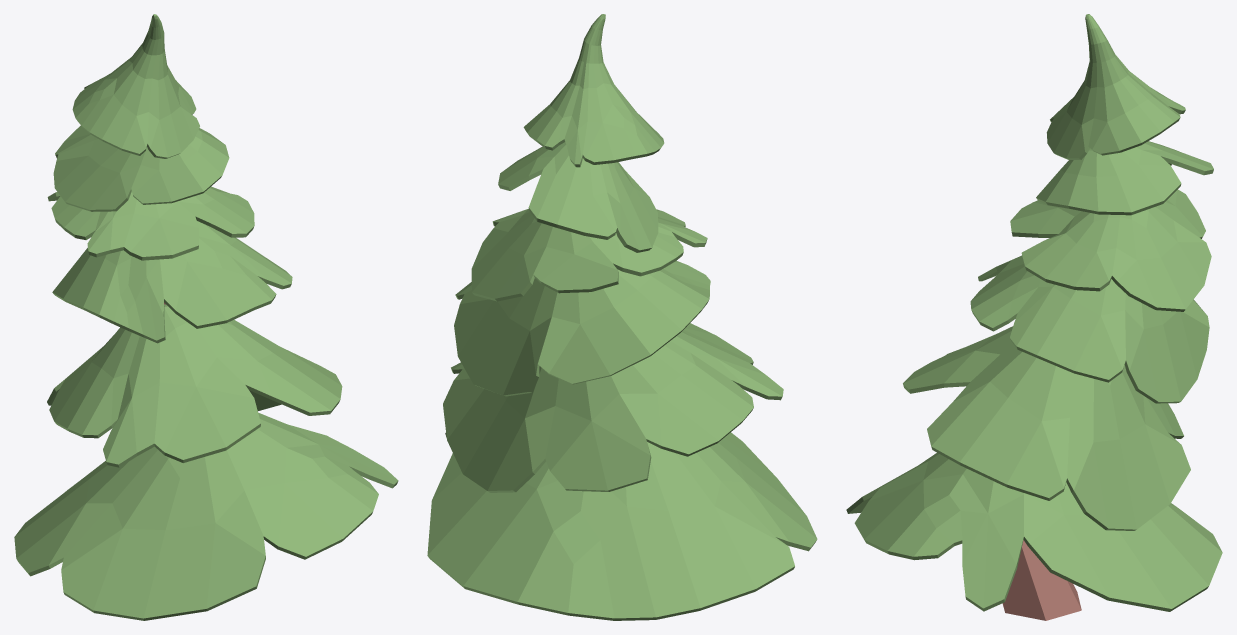
The model's file is pine_3.glb.
3 views of the same model, side by side, from view 1: azimuth 30°, elevation 25°; view 2: azimuth 150°, elevation 25°; view 3: azimuth 270°, elevation 25° (orthographic). The views are drawn at different scales.
Parts seen in each view (by area): view 1: PineTree_3; view 2: PineTree_3; view 3: PineTree_3.
Boxes of the visible parts, x1=… form: PineTree_3: x1=14, y1=14, x2=398, y2=620; PineTree_3: x1=427, y1=14, x2=817, y2=620; PineTree_3: x1=846, y1=14, x2=1222, y2=620.
Bounding box in the file's own units: 2.16 × 3.3 × 1.95.
